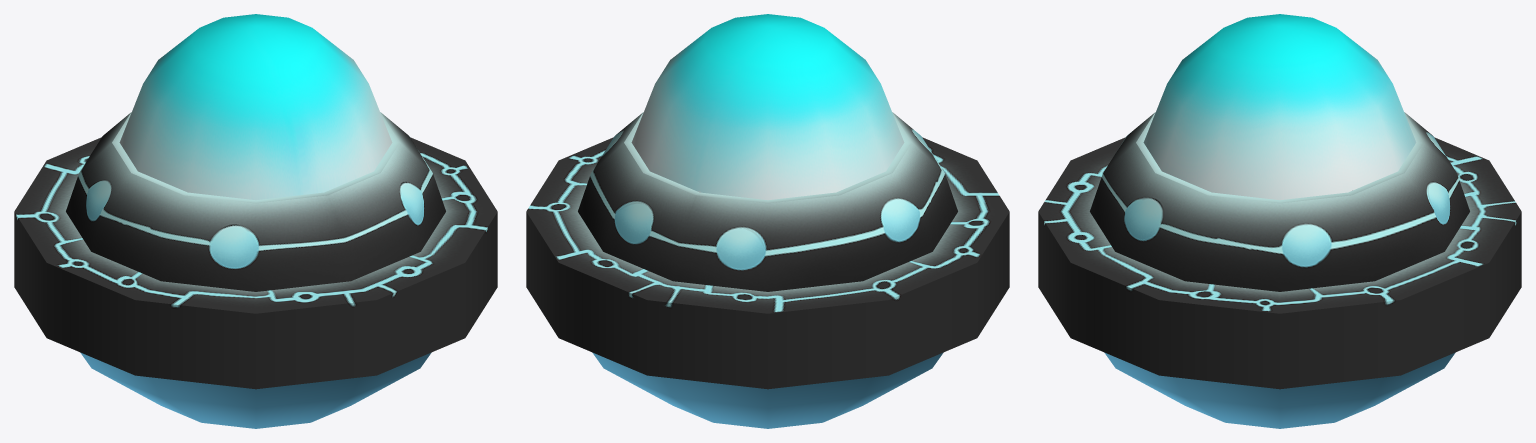
The model's file is Player_Blue.FBX.
3 views of the same model, side by side, from view 1: azimuth 30°, elevation 25°; view 2: azimuth 150°, elevation 25°; view 3: azimuth 270°, elevation 25° (orthographic).
Parts seen in each view (by area): view 1: feidie_A; view 2: feidie_A; view 3: feidie_A.
Boxes of the visible parts, x1,y1,x2,y2 form: feidie_A: (14, 14, 497, 428); feidie_A: (526, 14, 1009, 428); feidie_A: (1038, 14, 1521, 428).
Bounding box in the file's own units: 389 × 334 × 389.
